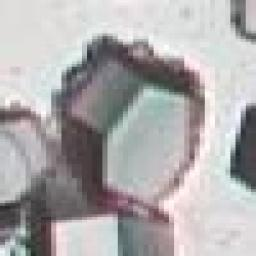crystals: (48, 34, 216, 216)
